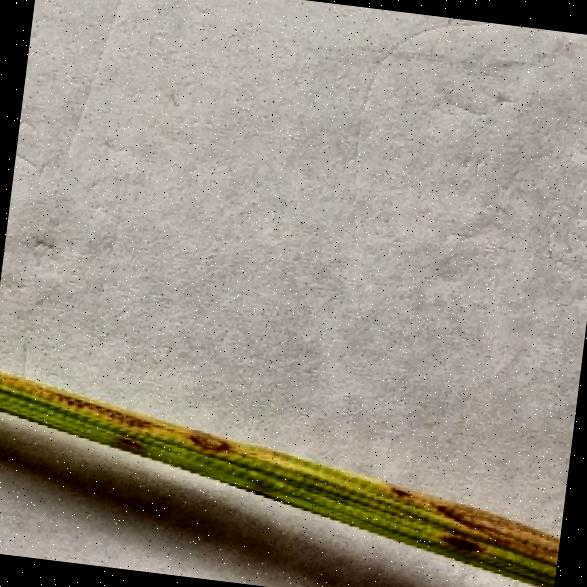Leaf_smut: (31, 380, 252, 480), (372, 482, 562, 568)
